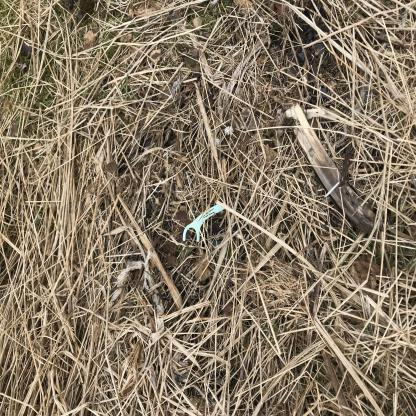trash: (129, 235, 164, 309)
